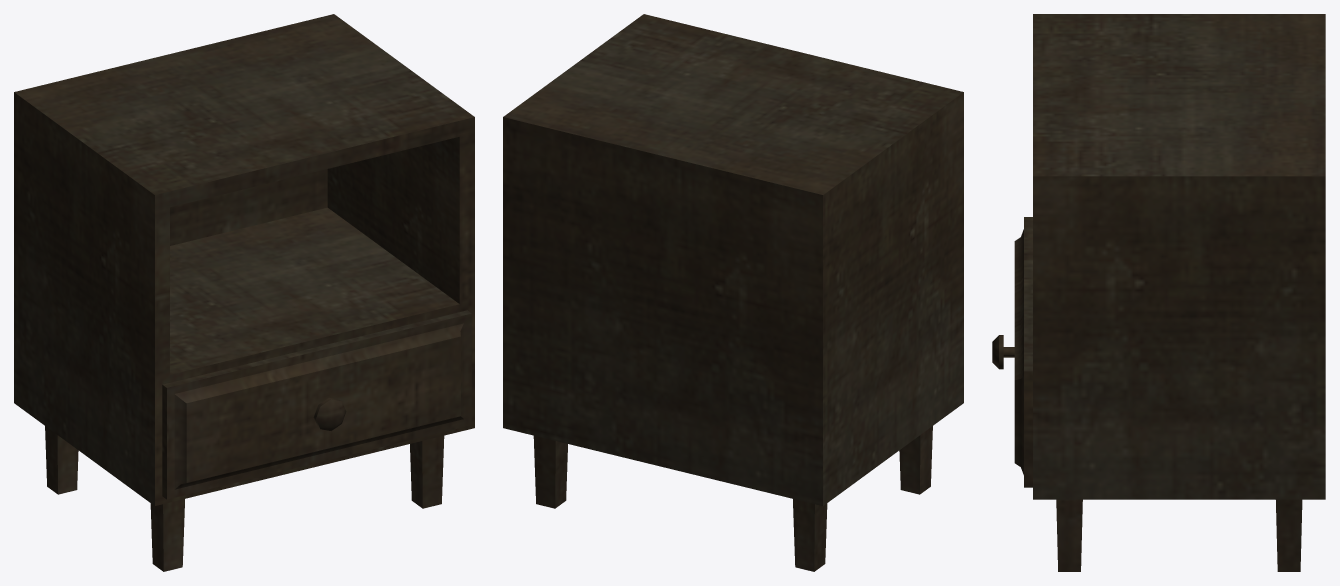
Rendered from bedside_table_2_4.obj.
The picture shows the model from 3 angles, left to right: view 1: azimuth 30°, elevation 25°; view 2: azimuth 150°, elevation 25°; view 3: azimuth 270°, elevation 25°; orthographic projection. The views are drawn at different scales.
Parts seen in each view (by area): view 1: bedside_table_2_4, bedside_table_2_4_drawer; view 2: bedside_table_2_4; view 3: bedside_table_2_4, bedside_table_2_4_drawer.
Part boxes in pixels (x1,y1,x2,y2): bedside_table_2_4: [14, 14, 474, 571]; bedside_table_2_4_drawer: [162, 310, 471, 499]; bedside_table_2_4: [503, 14, 963, 571]; bedside_table_2_4: [1033, 14, 1325, 571]; bedside_table_2_4_drawer: [992, 217, 1032, 487].
Size of the model in its own units: 0.504 by 0.588 by 0.4374.
